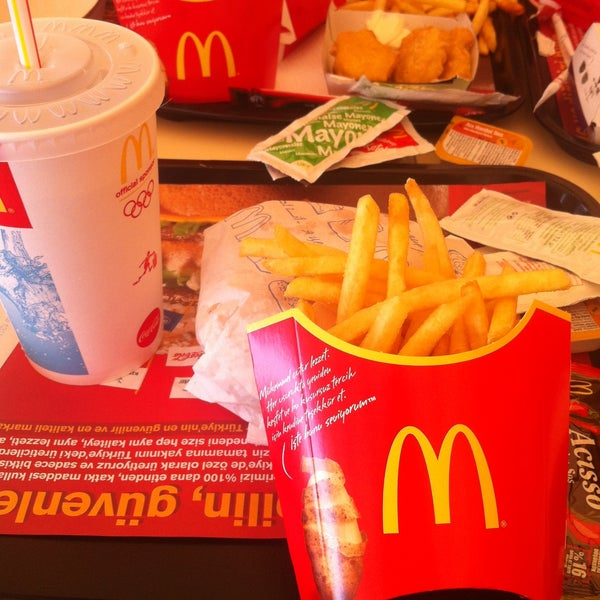mcdonalds: (374, 416, 505, 548), (171, 27, 236, 85)
